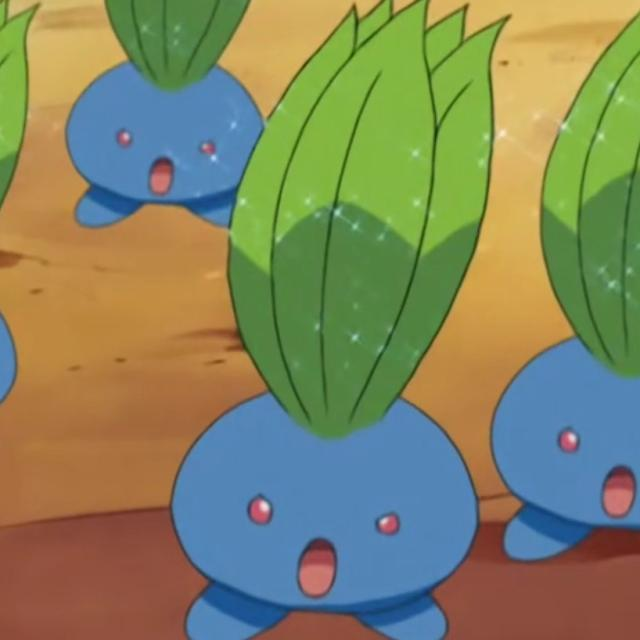Oddish: (202, 40, 489, 640), (486, 19, 640, 582), (66, 0, 272, 248)
